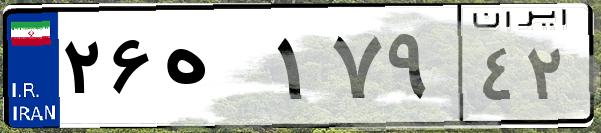1: (270, 28, 330, 110)
2: (57, 26, 110, 100), (525, 38, 570, 115)
4: (475, 38, 525, 113)
6: (110, 28, 158, 98)
7: (330, 28, 385, 110)
9: (385, 28, 445, 110)
ه: (158, 20, 270, 120)
